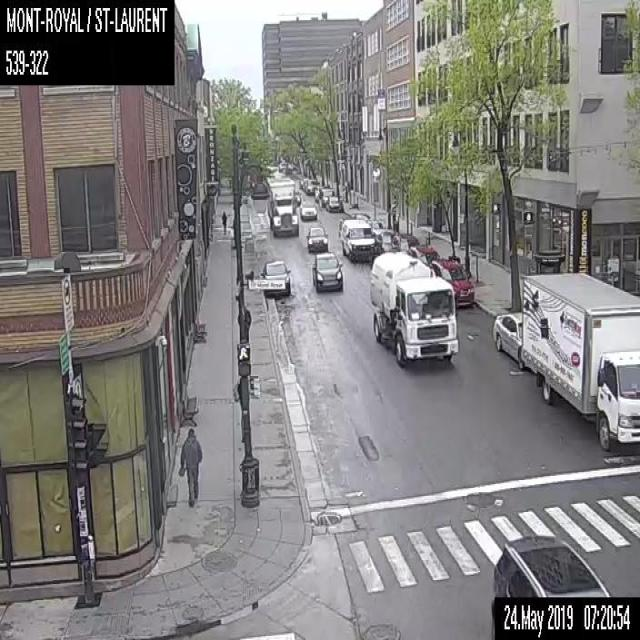pedestrian: (178, 428, 203, 504), (220, 209, 227, 235), (316, 187, 322, 212)
vehicle: (523, 272, 639, 448), (370, 249, 457, 367), (492, 534, 611, 598), (432, 260, 474, 306), (492, 311, 524, 367), (270, 180, 298, 237), (340, 219, 375, 263), (311, 252, 343, 290), (261, 259, 290, 296), (410, 245, 438, 267), (306, 225, 328, 252), (391, 231, 418, 252), (300, 201, 316, 221), (376, 230, 391, 248), (367, 219, 383, 235), (326, 196, 342, 212), (320, 188, 334, 205), (305, 179, 319, 194)
